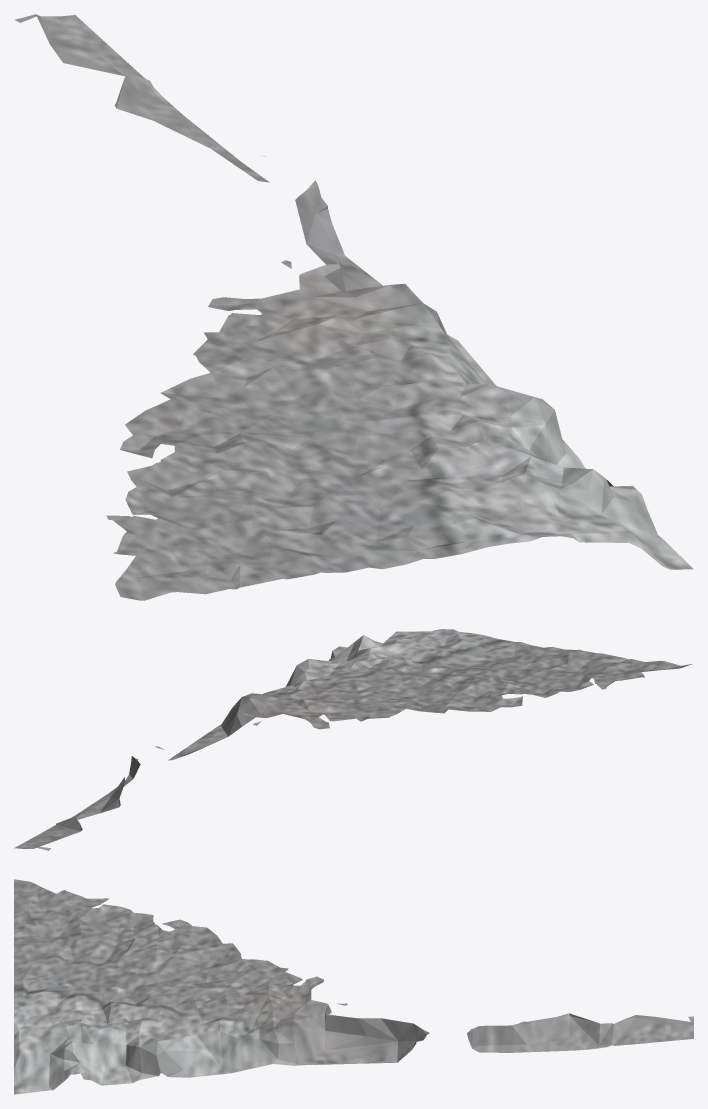
3 renders of one model, top to bottom at view 1: azimuth 30°, elevation 25°; view 2: azimuth 150°, elevation 25°; view 3: azimuth 270°, elevation 25°, orthographic. The views are drawn at different scales.
Size of the model in its own units: 0.8965 by 0.1677 by 1.67.
Materials: 1 (1 with a texture image).
